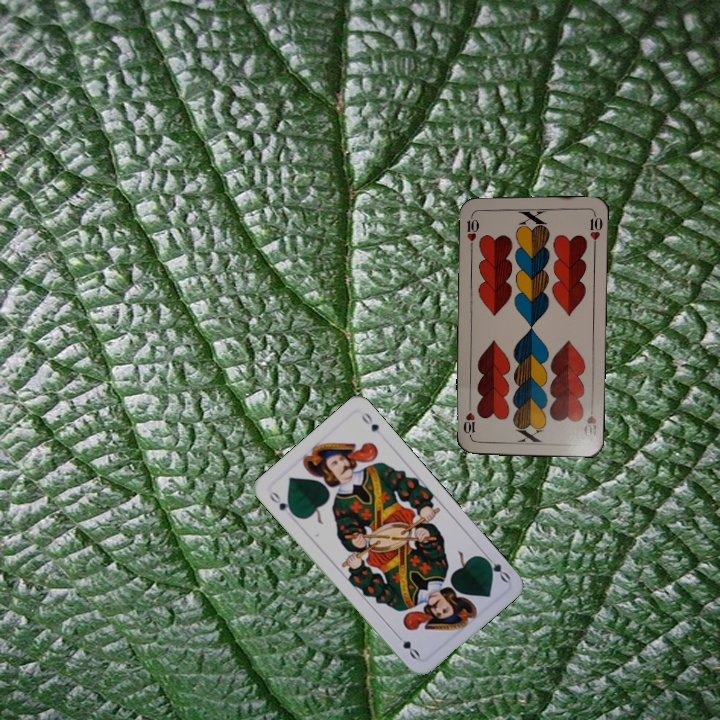GO: (478, 550, 513, 585), (265, 487, 298, 519)
H10: (580, 400, 599, 441), (463, 209, 482, 250)
